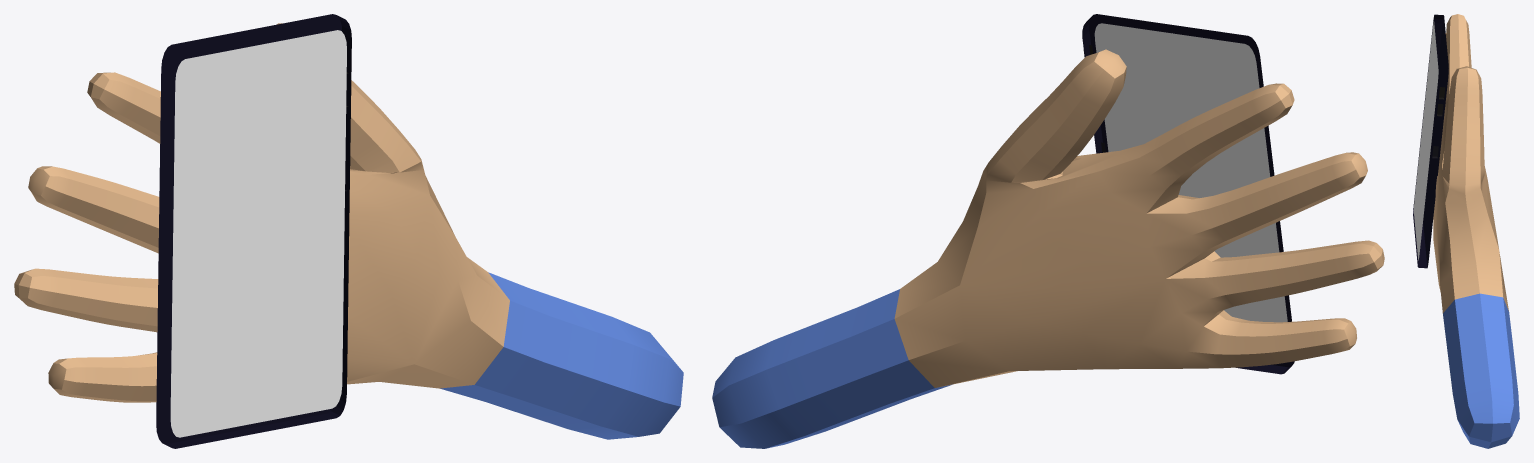
Rendered from hand_combined.gltf.
3 views of the same model, side by side, from view 1: azimuth 30°, elevation 25°; view 2: azimuth 150°, elevation 25°; view 3: azimuth 270°, elevation 25° (orthographic). The views are drawn at different scales.
Parts seen in each view (by area): view 1: Cube, Cube.001; view 2: Cube, Cube.001; view 3: Cube, Cube.001.
Part boxes in pixels (left/top/right/bottom): Cube: left=14, top=14, right=509, bottom=448; Cube.001: left=440, top=272, right=683, bottom=439; Cube: left=894, top=14, right=1384, bottom=387; Cube.001: left=712, top=289, right=952, bottom=448; Cube: left=1413, top=14, right=1508, bottom=313; Cube.001: left=1443, top=293, right=1519, bottom=448.
Bounding box in the file's own units: 3.09 × 2.29 × 0.7443.
